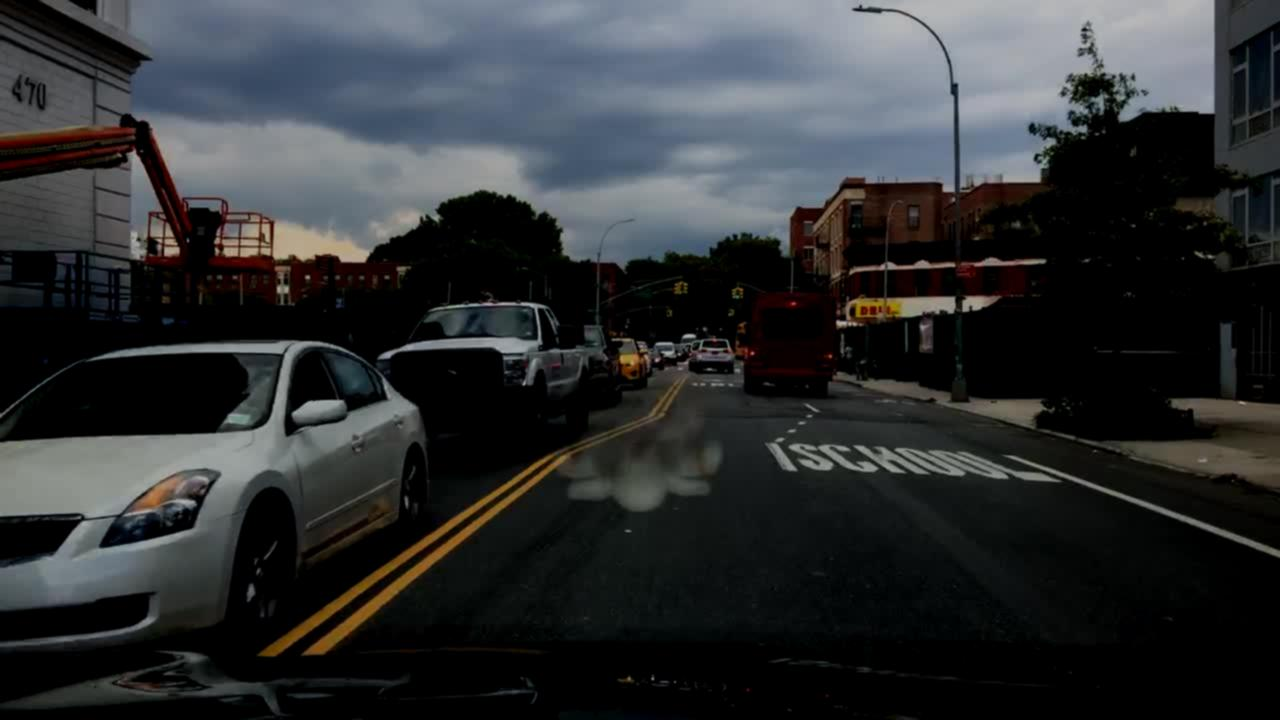ford: (428, 365, 459, 384)
